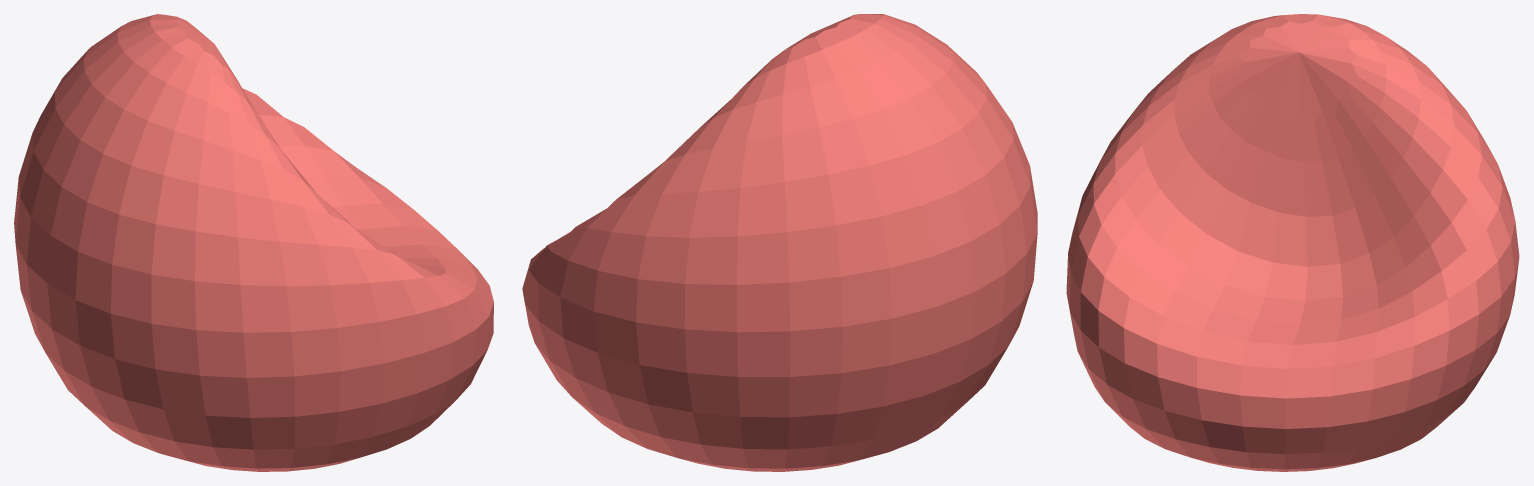
The model's file is Seat_1.glb.
3 views of the same model, side by side, from view 1: azimuth 30°, elevation 25°; view 2: azimuth 150°, elevation 25°; view 3: azimuth 270°, elevation 25° (orthographic). The views are drawn at different scales.
Parts seen in each view (by area): view 1: Seat_1; view 2: Seat_1; view 3: Seat_1.
Boxes of the visible parts, x1,y1,x2,y2 form: Seat_1: (14, 14, 493, 471); Seat_1: (522, 14, 1037, 471); Seat_1: (1066, 14, 1519, 471).
Size of the model in its own units: 1.73 by 1.63 by 1.77.
